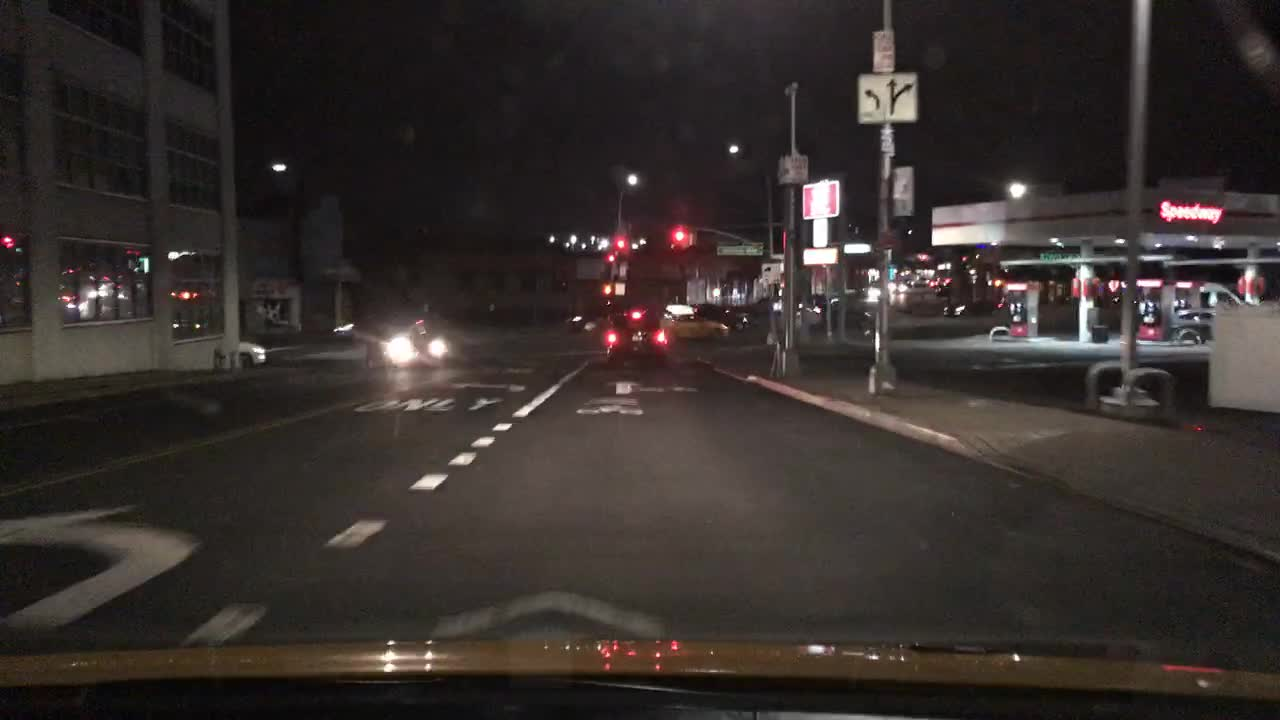car: (604, 304, 668, 365), (388, 313, 461, 365), (329, 305, 420, 343), (809, 309, 877, 350), (659, 304, 730, 338), (562, 303, 611, 336), (937, 296, 1005, 319), (698, 299, 746, 327), (237, 336, 268, 370), (1177, 309, 1214, 337), (800, 291, 828, 318), (754, 294, 781, 318), (887, 278, 907, 294), (932, 285, 951, 299)
traffic light: (598, 280, 614, 295), (673, 222, 683, 244), (605, 253, 620, 263), (614, 237, 625, 250)
traffic sign: (857, 69, 918, 125), (889, 164, 919, 221), (787, 152, 811, 185), (756, 260, 785, 280), (713, 245, 760, 257)
